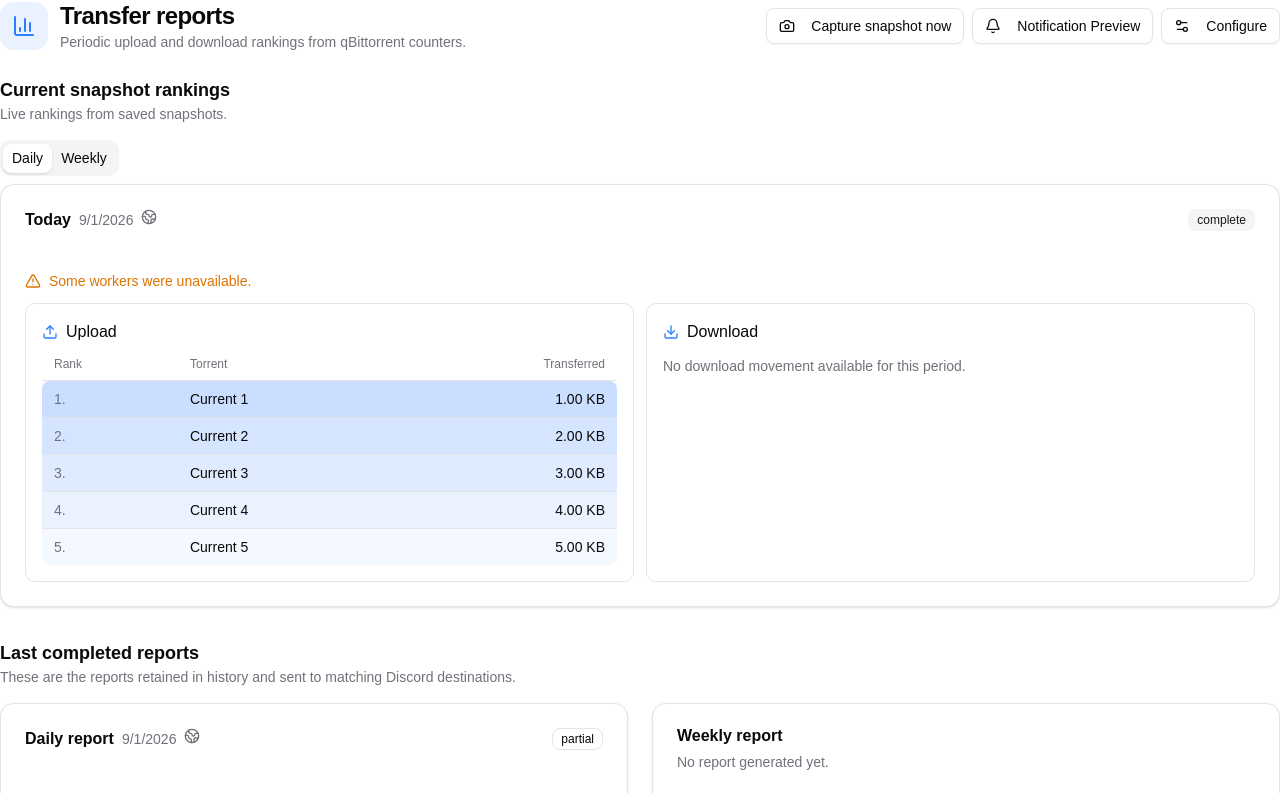
Test case: ReportsPage › previews the Discord embed for each available report
What coordinates should you click on to do the following:
click the button "Notification Preview"
I would click on:
 (1063, 26)
Its box is [972,8,1153,44].
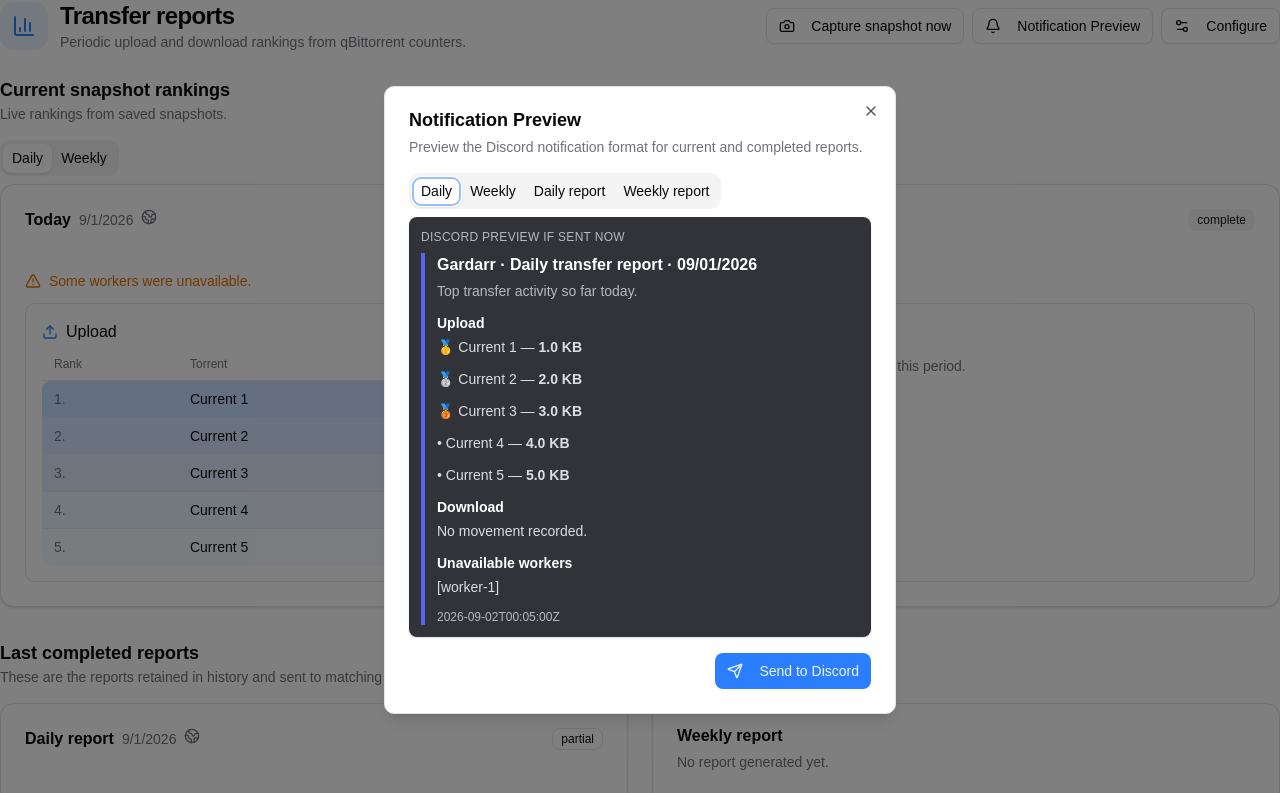
Check: the dialog shows "Notification Preview", box [409,110,581,130]
What coordinates should you click on to do the following:
click the tab "Daily report"
I would click on:
 (570, 191)
Its box is [525,176,614,206].
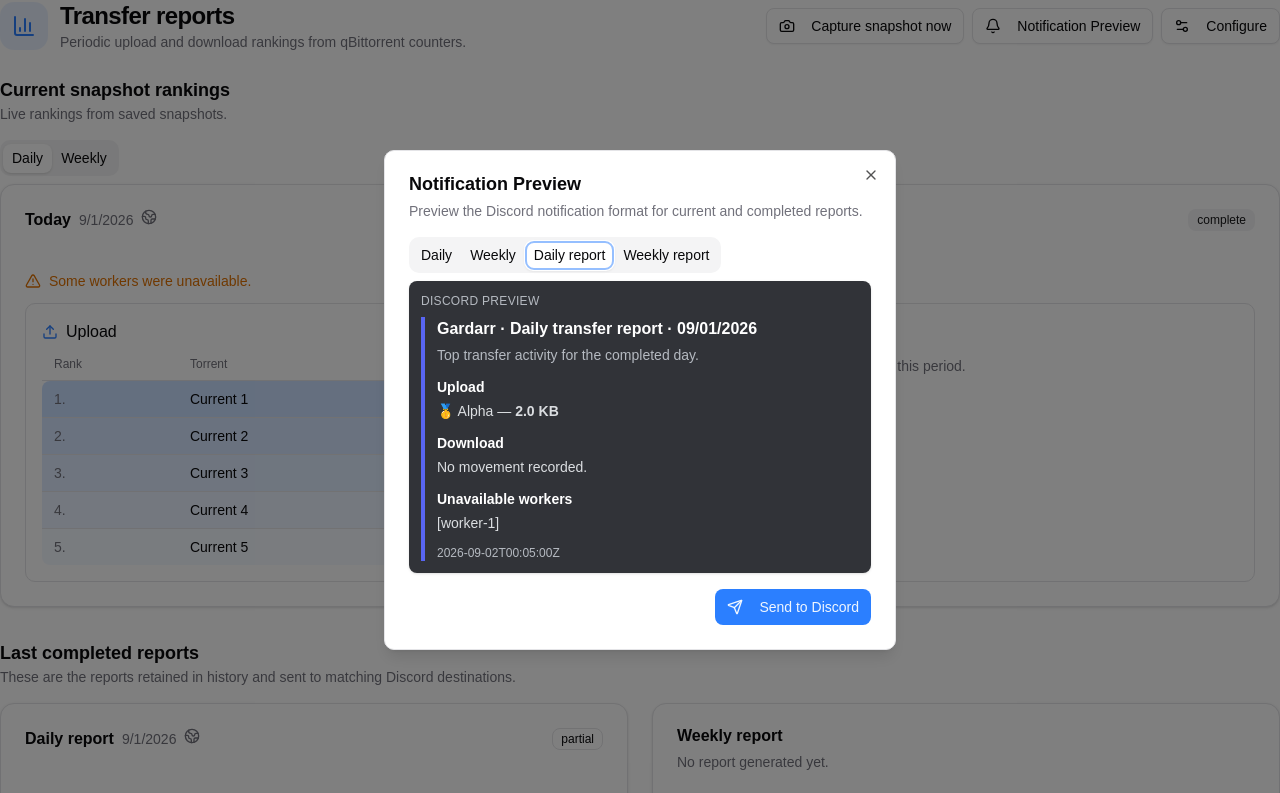
Check: the element with test id "discord-preview-daily" does not show "Period", box [409,281,871,573]
Check: the element with test id "discord-preview-daily" shows "Gardarr · Daily transfer report · 09/01/2026", box [437,320,757,337]
Check: the element with test id "discord-preview-daily" shows "🥇 Alpha — 2.0 KB", box [409,281,871,573]
